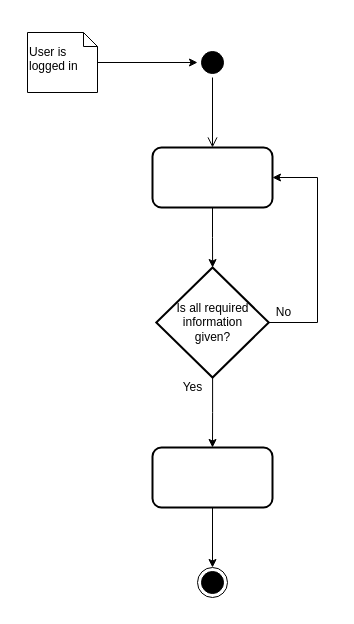
This 354x624 diagram has some shape labels left out. Here are the shapes that lost their labels. From the top down, the box of each, then its label:
(151, 146, 273, 208): Input Paper Information
(151, 446, 273, 508): Paper details Added Successfully
